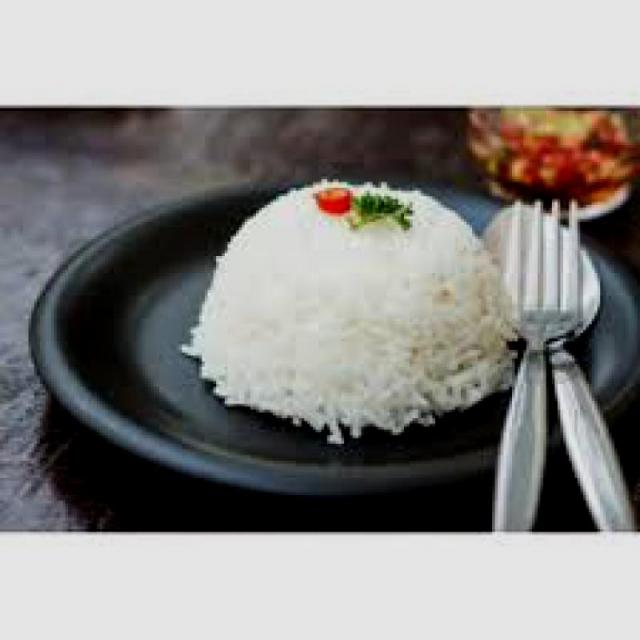rice: (195, 180, 515, 433)
